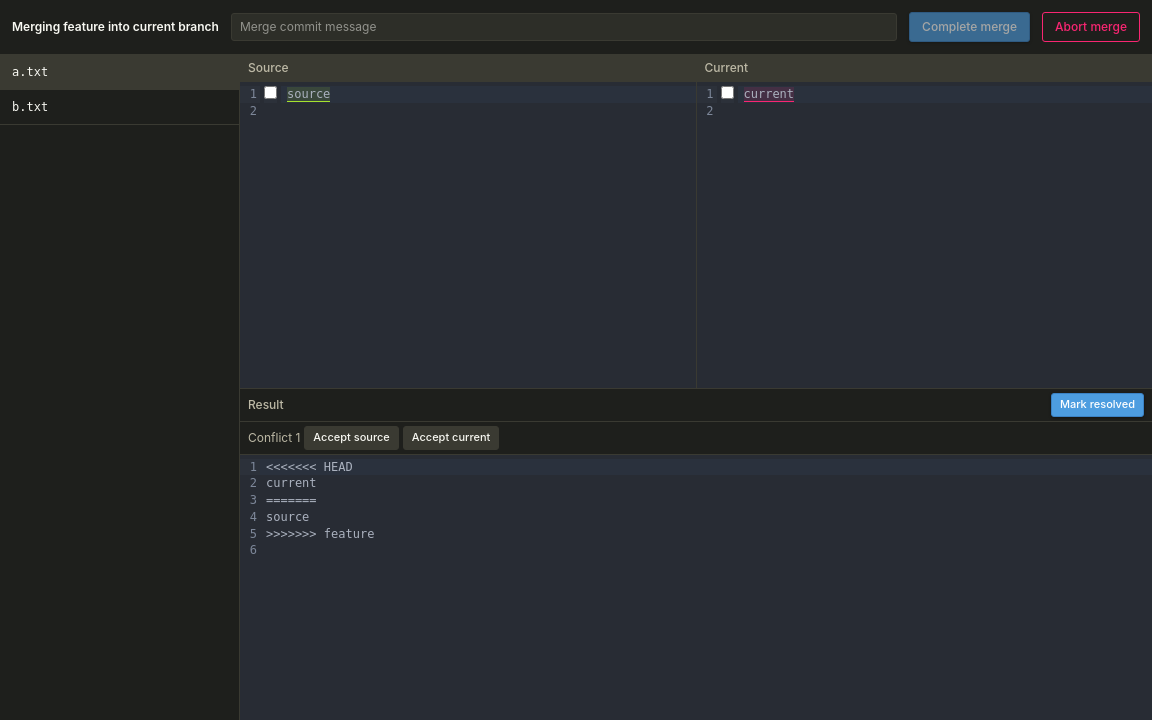
Test: MergeEditor › Abort asks for confirmation when at least one conflict has unsaved edits
What coordinates should you click on to do the following:
click the button "Accept current"
I would click on:
 (451, 438)
Its box is [403, 426, 499, 450].
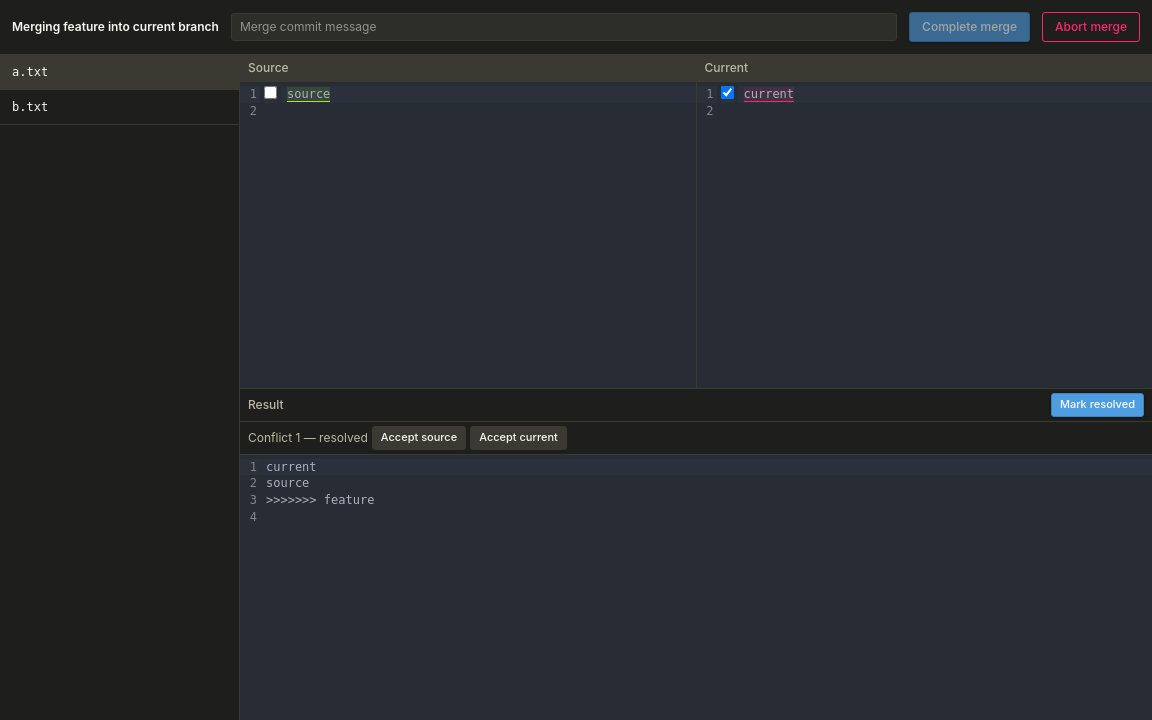
What coordinates should you click on to do the following:
click the button "Abort merge"
I would click on:
 (1091, 27)
Its box is [1042, 12, 1140, 42].
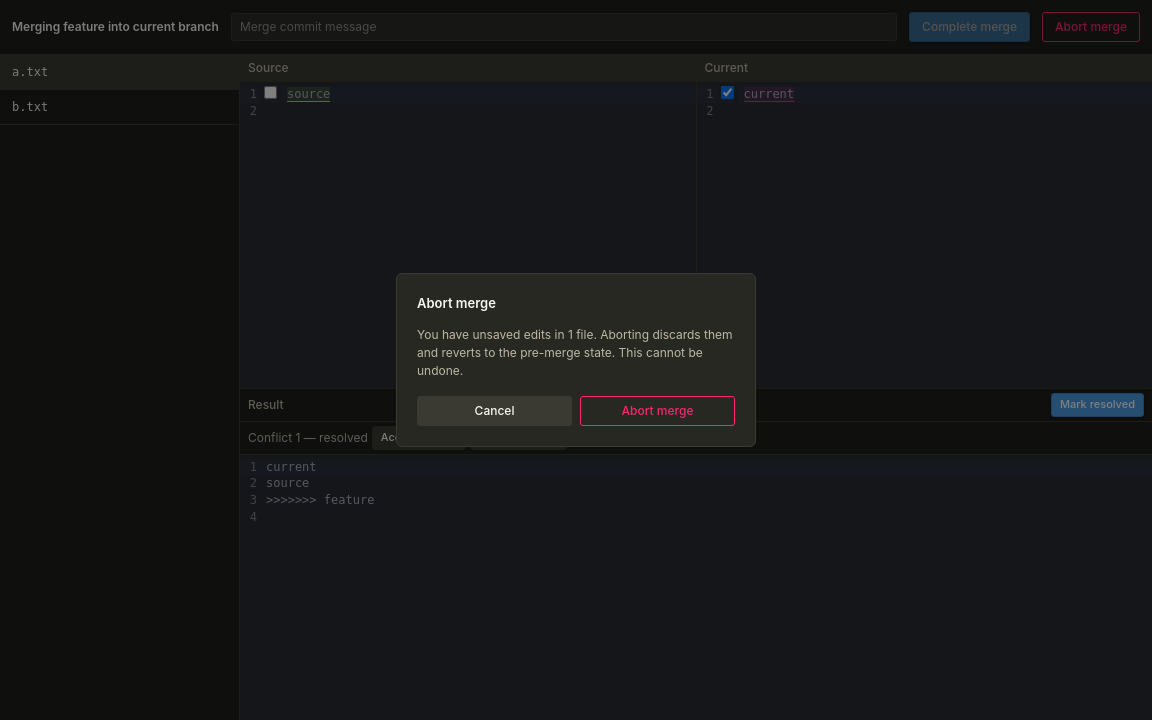
Result: the dialog "Abort" is shown
